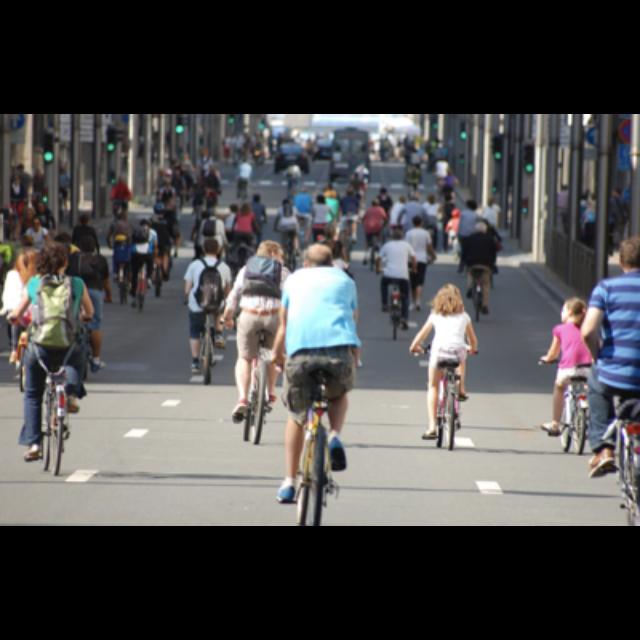Without Helmet: (250, 232, 290, 270), (302, 236, 340, 276), (34, 236, 70, 276), (436, 276, 462, 314), (197, 231, 221, 261)
